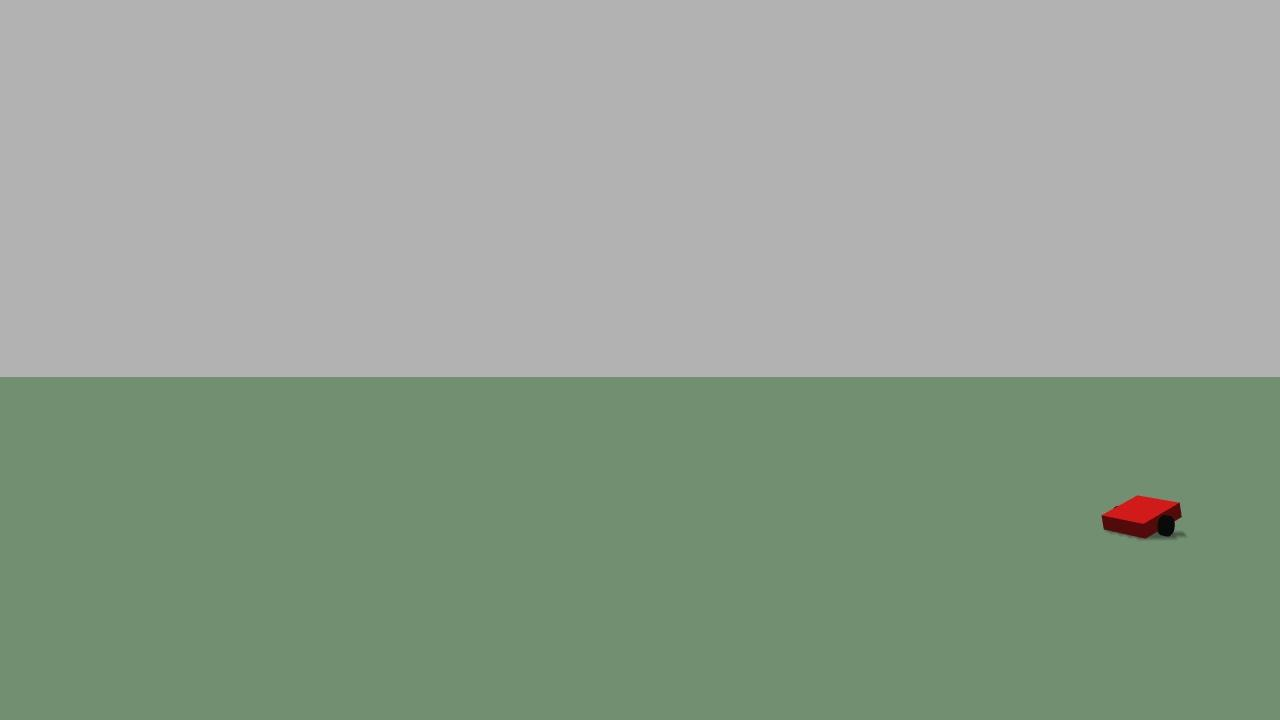ground_vehicle: (1083, 481, 1195, 550)
